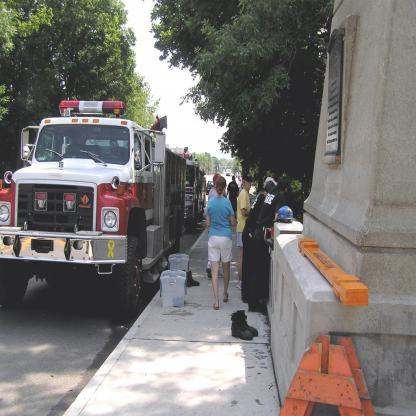Truck: (40, 103, 188, 318), (178, 153, 206, 223)
